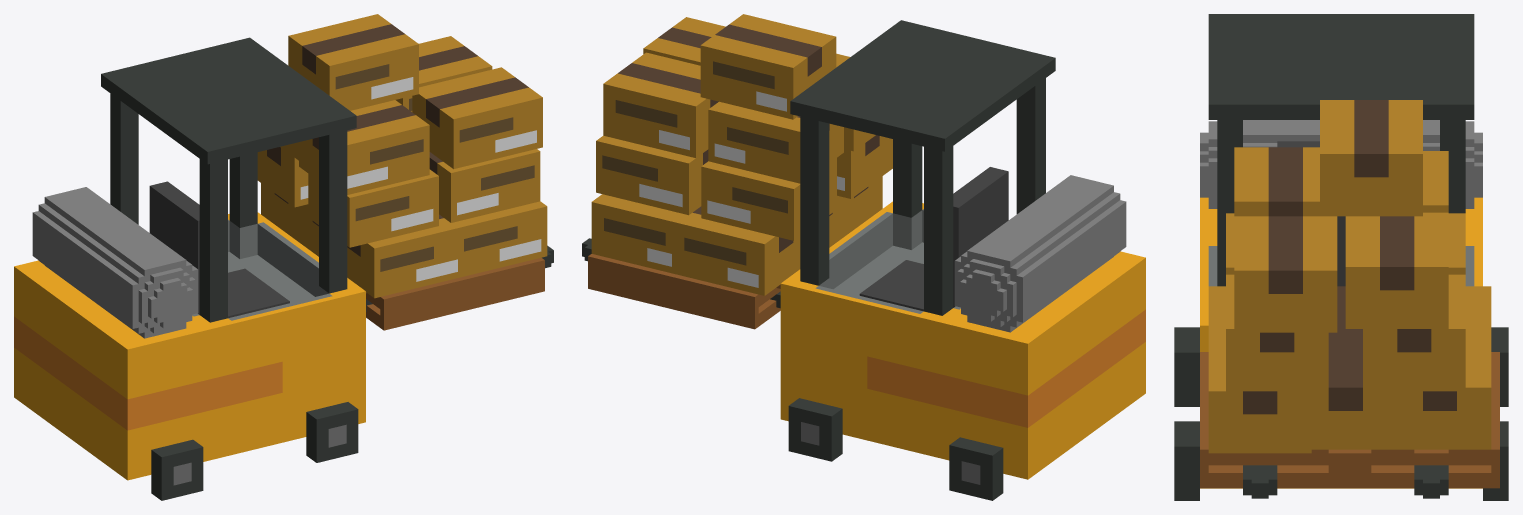
File: forklift.obj
3 renders of one model, left to right at view 1: azimuth 30°, elevation 25°; view 2: azimuth 150°, elevation 25°; view 3: azimuth 270°, elevation 25°, orthographic. The views are drawn at different scales.
Bounding box in the file's own units: 7.5 × 5.4 × 3.9.
Materials: 1 (1 with a texture image).
